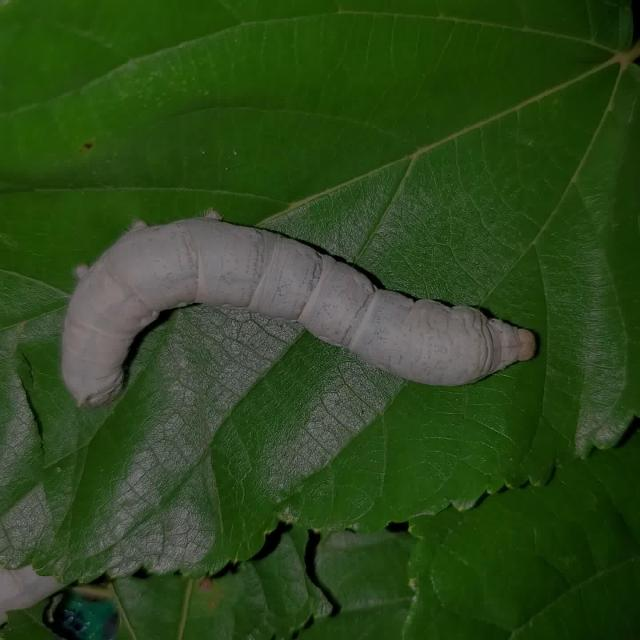Healthy: (52, 202, 546, 419)
